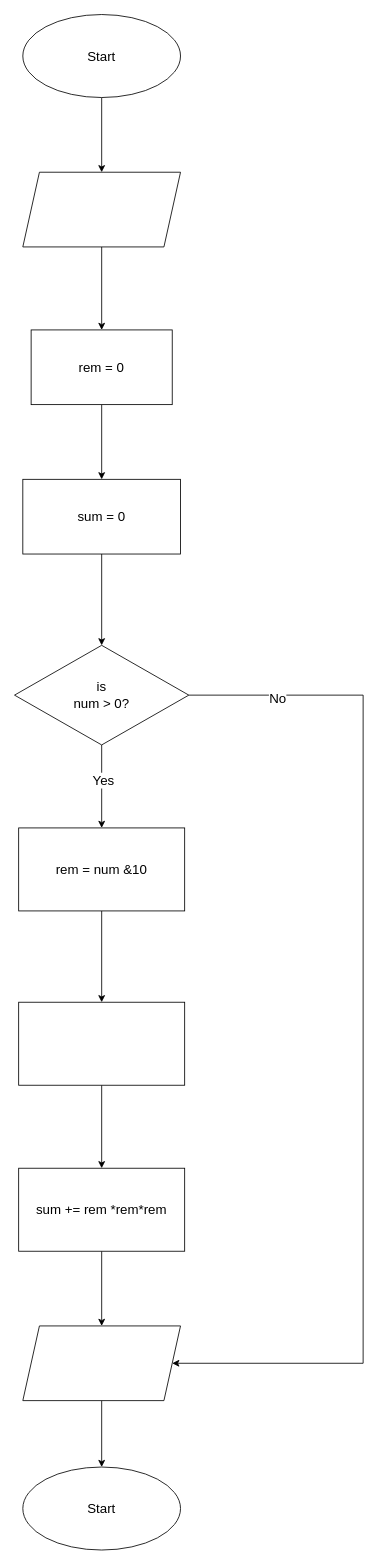
The diagram is 384 pixels wide and 1565 high, and some of its shapes have lost their labels. The shapes that lost their labels are listed below. From the top down, each one's centre as x and y in pixels, then its label:
the point at 101,209: Input num
the point at 101,1043: num/= 10
the point at 101,1363: Print sum
